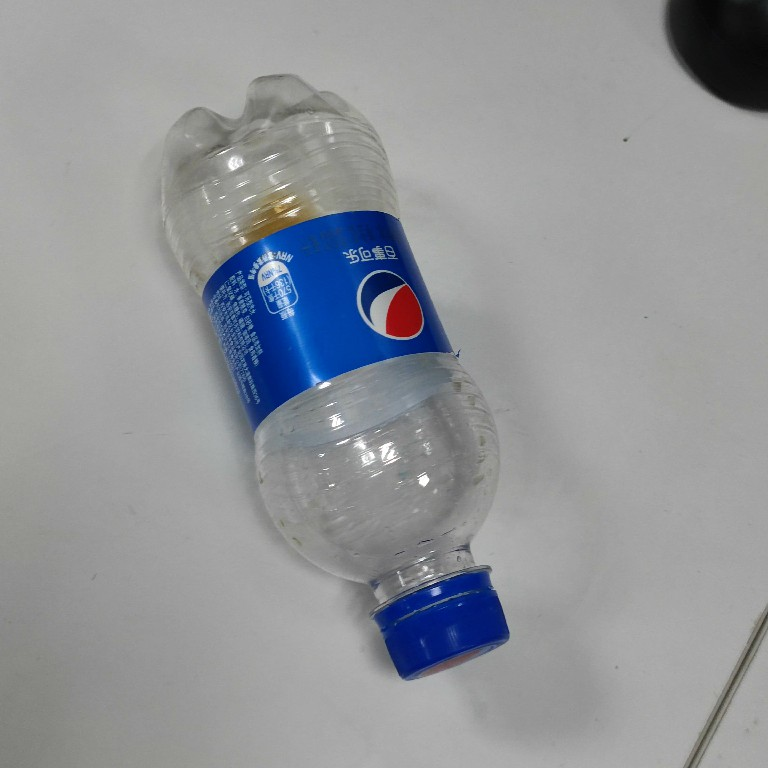bottle: (151, 60, 519, 691)
